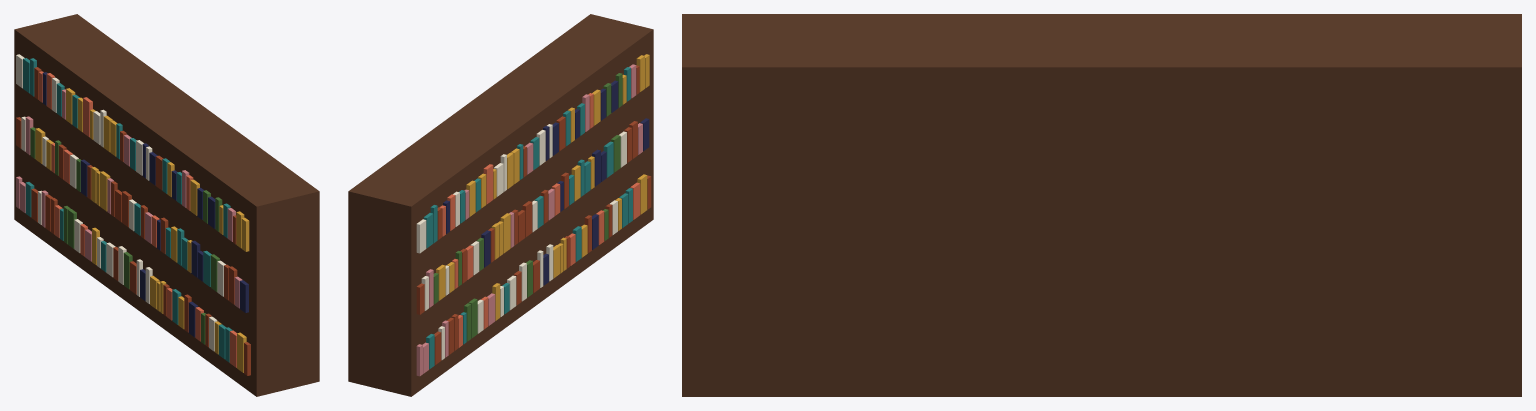
The model's file is kids.glb.
The picture shows the model from 3 angles, left to right: view 1: azimuth 30°, elevation 25°; view 2: azimuth 150°, elevation 25°; view 3: azimuth 270°, elevation 25°; orthographic projection. The views are drawn at different scales.
Parts seen in each view (by area): view 1: Box1, Box64, Box89, Box103, Box134, Box84, Box45, Box60, Box51, Box13, Box124, Box87 (+3 smaller); view 2: Box1, Box90, Box103, Box45, Box64, Box84, Box83, Box68, Box44, Box51; view 3: Box1.
Part boxes in pixels (x1,y1,x2,y2): Box1: [14, 14, 319, 396]; Box64: [100, 171, 110, 211]; Box89: [239, 280, 248, 312]; Box103: [83, 97, 92, 137]; Box134: [241, 217, 249, 251]; Box84: [210, 254, 219, 291]; Box45: [237, 332, 246, 372]; Box60: [80, 159, 90, 196]; Box51: [35, 128, 45, 163]; Box13: [68, 209, 76, 248]; Box124: [190, 179, 199, 215]; Box87: [228, 266, 237, 304]; Box1: [348, 14, 653, 396]; Box90: [416, 219, 426, 253]; Box103: [483, 164, 493, 204]; Box45: [637, 174, 647, 214]; Box64: [500, 213, 510, 253]; Box84: [611, 135, 620, 172]; Box83: [603, 141, 613, 177]; Box68: [522, 201, 532, 237]; Box44: [630, 182, 640, 219]; Box51: [436, 264, 445, 300]; Box1: [682, 14, 1521, 396].
Size of the model in its own units: 0.475 by 1.3 by 3.
